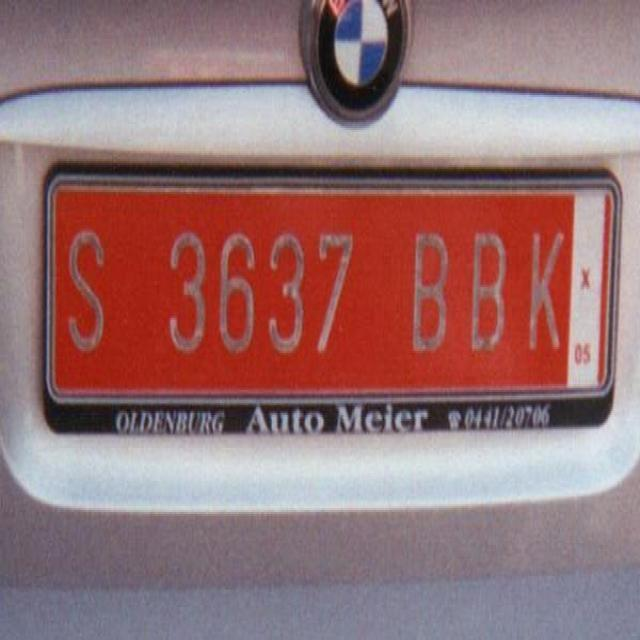licenseplate: (30, 130, 629, 452)
